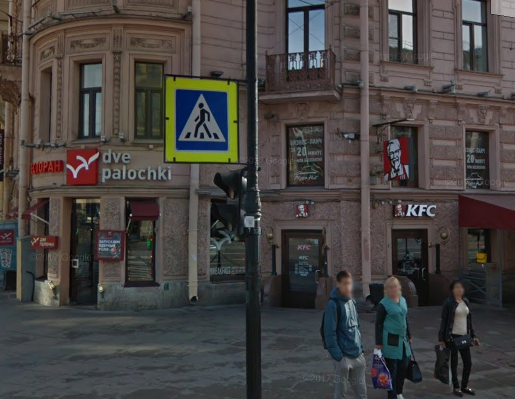cantilever: (377, 118, 414, 181)
door: (67, 200, 102, 306)
signboard: (29, 144, 176, 186), (391, 203, 438, 217), (293, 203, 308, 217)
window: (76, 60, 106, 140), (135, 59, 162, 142), (290, 122, 322, 188), (124, 217, 155, 285)
